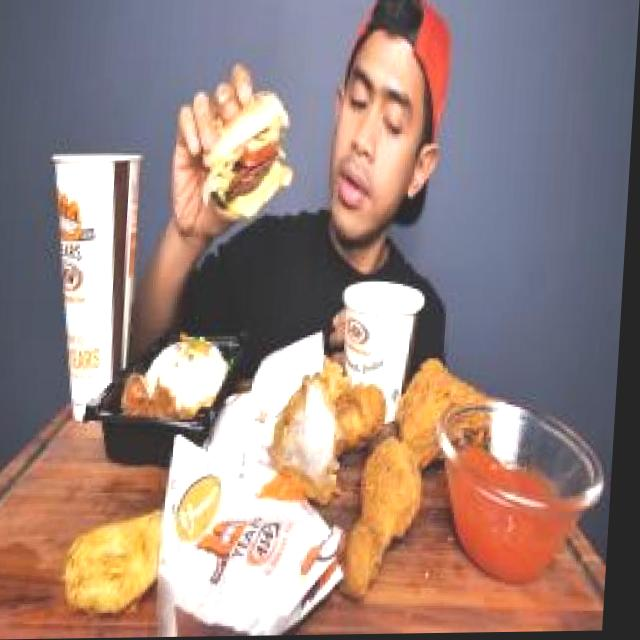AW cola: (43, 133, 157, 434)
black pepper rice bowl: (111, 317, 248, 461)
crispy corn: (328, 262, 439, 421)
fried chicken: (270, 344, 517, 602)
mozza burger: (202, 88, 299, 238)
perkedel: (66, 495, 185, 624)
